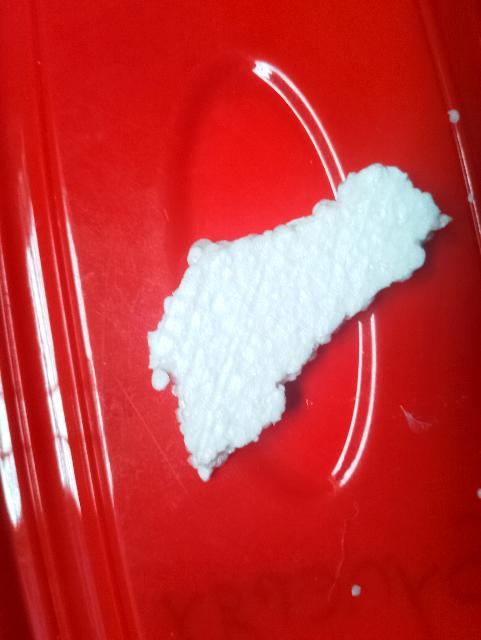cocksheet: (88, 92, 458, 461)
